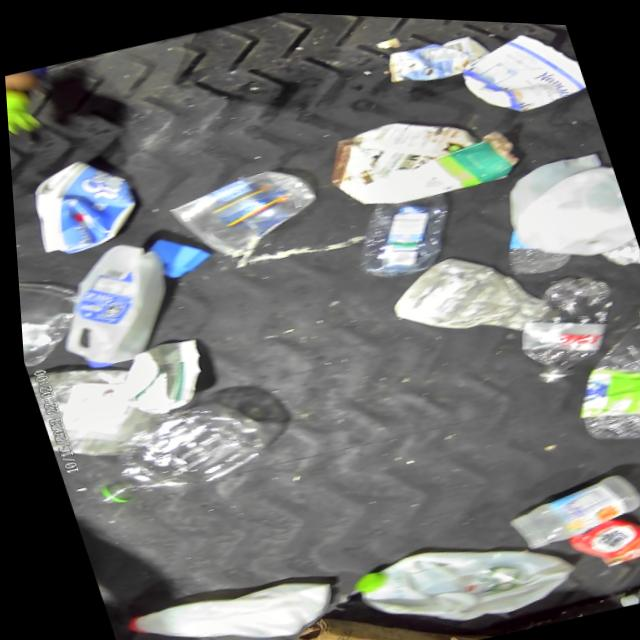can: (555, 498, 640, 572)
milk_jug: (330, 503, 586, 640), (28, 228, 186, 379), (109, 555, 341, 640), (490, 148, 636, 270), (334, 176, 470, 284)
plastic_bottle: (65, 381, 280, 515), (490, 253, 637, 388), (541, 289, 640, 446), (492, 219, 571, 278), (597, 534, 640, 604)
